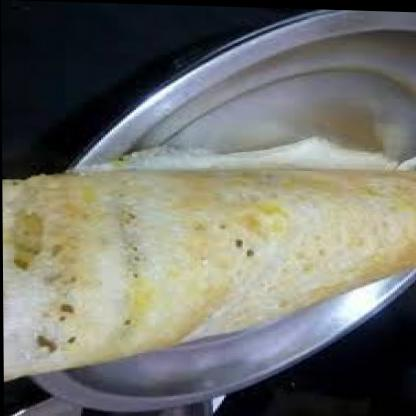dosa: (1, 128, 416, 391)
